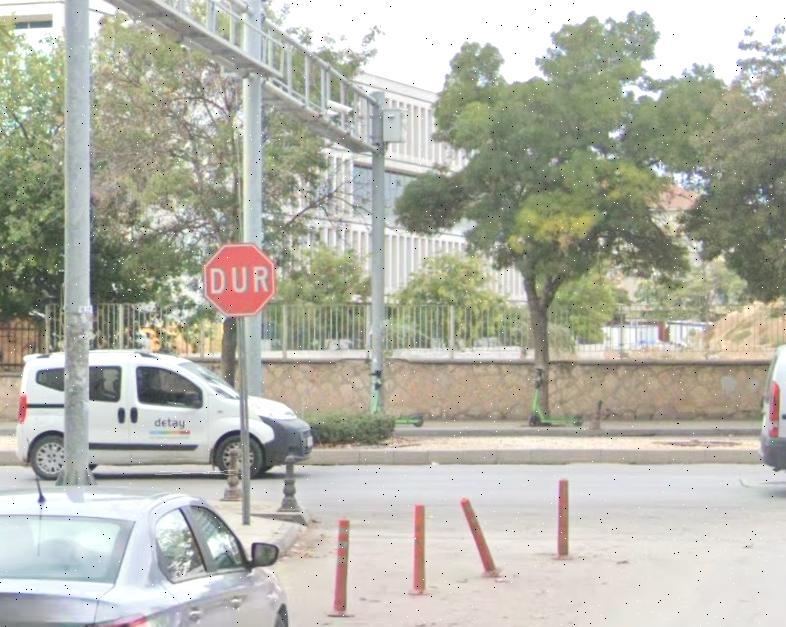stop: (203, 244, 274, 313)
